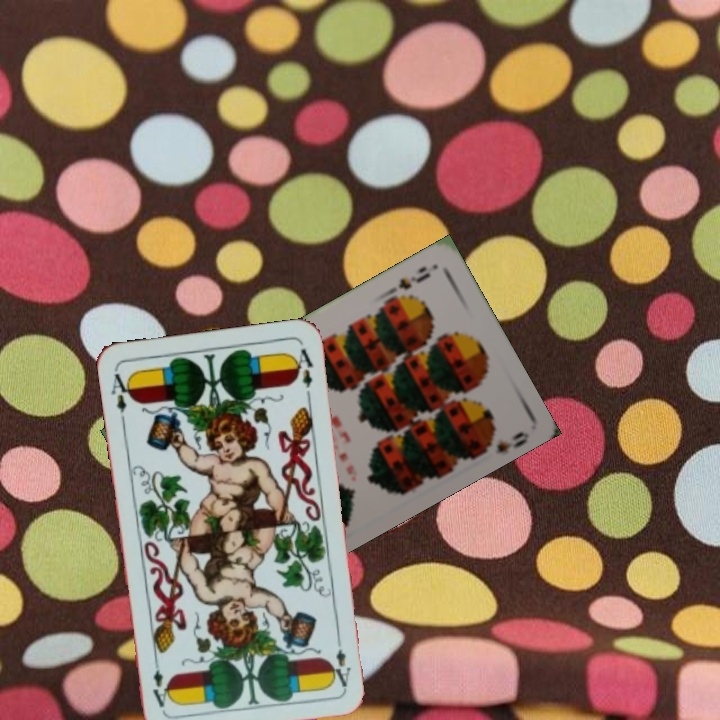EA: (107, 369, 135, 426), (330, 631, 354, 690)
S9: (384, 262, 433, 302)
